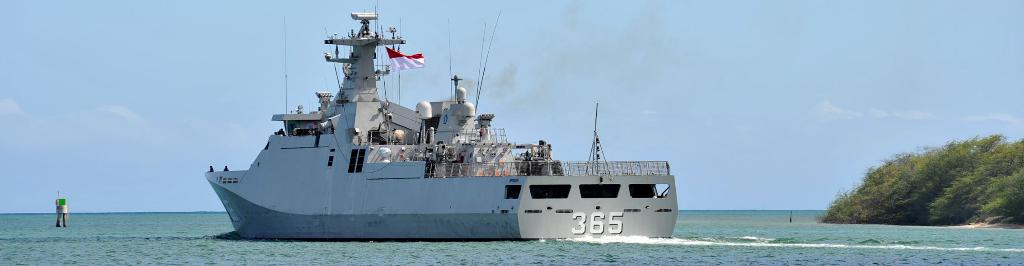Warship: (202, 11, 678, 240)
